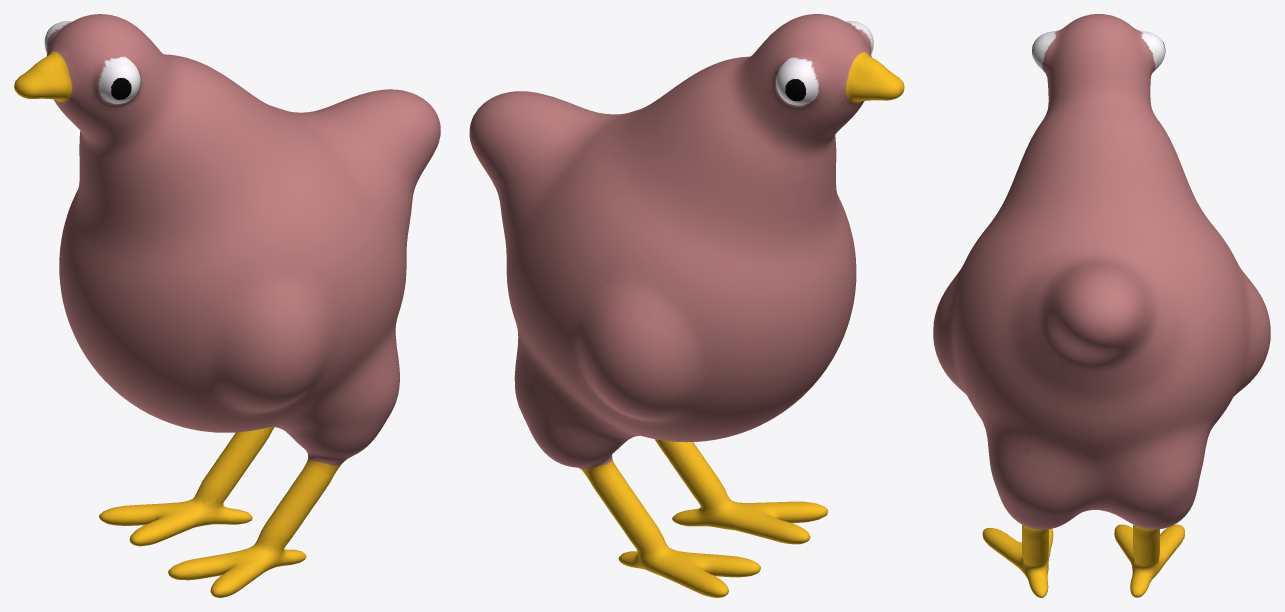
File: chookity.obj
3 views of the same model, side by side, from view 1: azimuth 30°, elevation 25°; view 2: azimuth 150°, elevation 25°; view 3: azimuth 270°, elevation 25° (orthographic). The views are drawn at different scales.
Parts seen in each view (by area): view 1: Mball.028; view 2: Mball.028; view 3: Mball.028.
Part boxes in pixels (x1=…): Mball.028: x1=14, y1=14, x2=440, y2=597; Mball.028: x1=469, y1=14, x2=904, y2=597; Mball.028: x1=933, y1=14, x2=1270, y2=597.
Size of the model in its own units: 3.76 by 4.8 by 2.91.
Materials: 1 (1 with a texture image).
